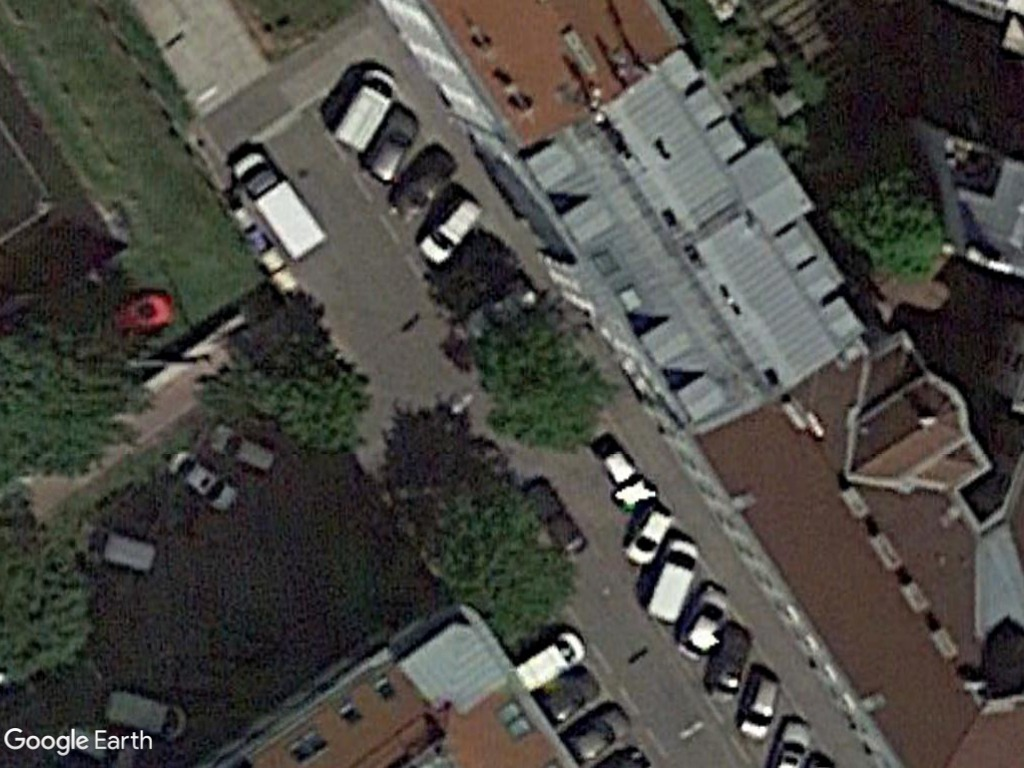car: (414, 191, 487, 270), (356, 104, 419, 195), (165, 444, 242, 518), (729, 666, 784, 749), (619, 499, 675, 570)
truck: (232, 144, 330, 268)
van: (327, 65, 403, 153), (642, 531, 704, 630), (101, 683, 191, 746), (510, 627, 588, 696)
